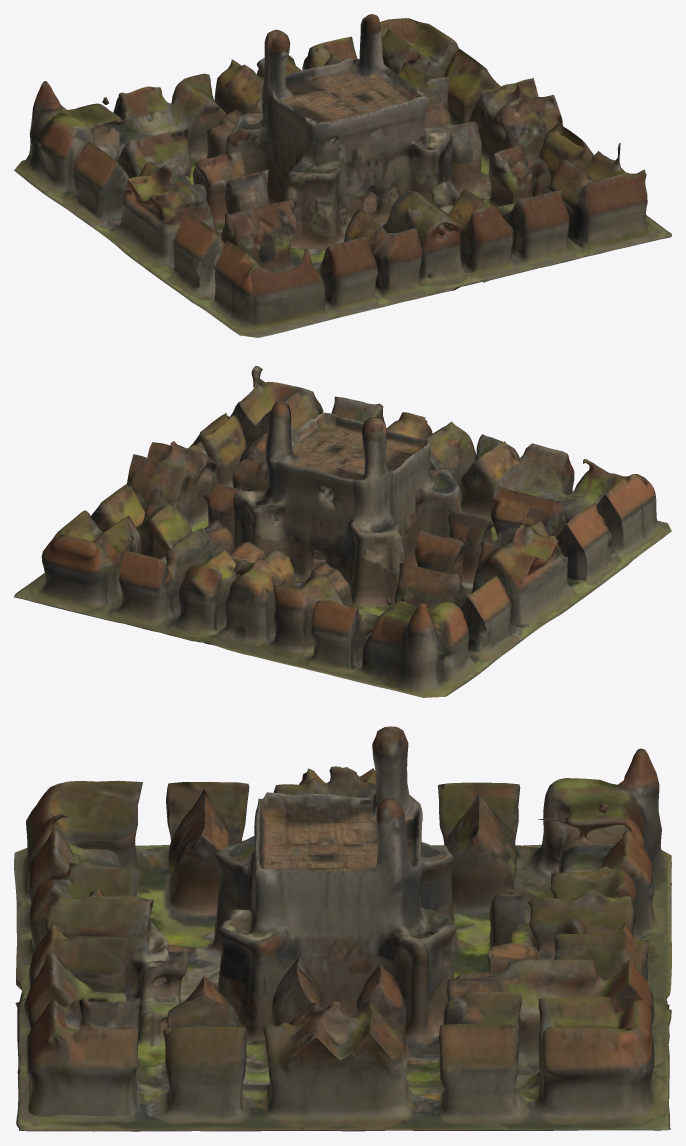
File: Feudal Thing 2.fbx
3 renders of one model, top to bottom at view 1: azimuth 30°, elevation 25°; view 2: azimuth 150°, elevation 25°; view 3: azimuth 270°, elevation 25°, orthographic. The views are drawn at different scales.
Parts seen in each view (by area): view 1: Mesh0; view 2: Mesh0; view 3: Mesh0.
Boxes of the visible parts, x1,y1,x2,y2 form: Mesh0: [14, 14, 671, 337]; Mesh0: [14, 366, 671, 697]; Mesh0: [14, 726, 671, 1131].
Size of the model in its own units: 201 by 76.14 by 194.
Materials: 1 (1 with a texture image).
